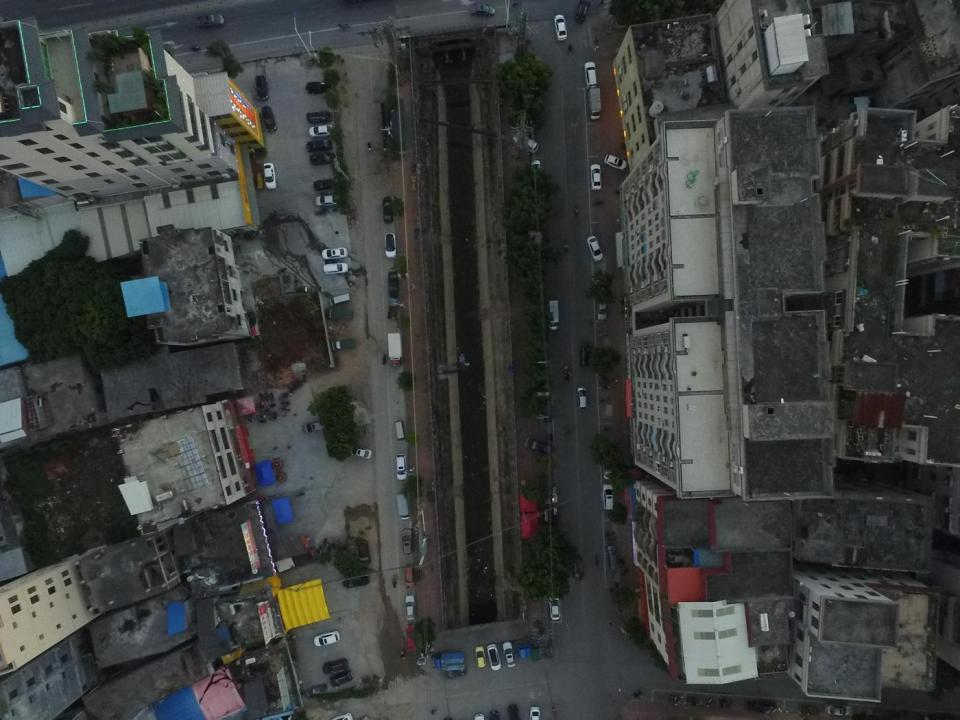car: (524, 437, 554, 456), (744, 699, 778, 714), (586, 234, 604, 262), (313, 630, 340, 647), (342, 573, 370, 589), (322, 658, 348, 675), (329, 670, 353, 688), (196, 14, 224, 29), (261, 106, 277, 132), (604, 154, 628, 171), (309, 152, 336, 167), (486, 643, 501, 670), (553, 14, 568, 41), (263, 162, 277, 190), (502, 640, 516, 668), (571, 555, 585, 583), (589, 163, 603, 191), (583, 61, 597, 89), (825, 704, 855, 717), (404, 623, 417, 652), (601, 482, 614, 511), (348, 444, 373, 459), (574, 0, 590, 23), (305, 81, 331, 95), (306, 110, 332, 124), (305, 139, 333, 152), (301, 420, 327, 434), (321, 247, 348, 260), (387, 272, 400, 299), (357, 542, 372, 565), (322, 262, 348, 275), (605, 544, 618, 570), (395, 453, 407, 481), (312, 178, 337, 191), (470, 3, 495, 16), (384, 232, 396, 259), (549, 593, 561, 620), (383, 196, 394, 224), (328, 293, 350, 307), (474, 645, 487, 668), (401, 529, 412, 555), (596, 298, 608, 321), (308, 125, 333, 136), (579, 342, 590, 367), (576, 387, 588, 409), (315, 195, 337, 206), (405, 594, 414, 620), (530, 160, 541, 181), (448, 668, 468, 679), (405, 564, 414, 588), (507, 704, 520, 720), (528, 705, 539, 720)
truck: (517, 643, 555, 661), (433, 651, 466, 671), (387, 333, 403, 366), (586, 86, 601, 121), (395, 490, 412, 520), (325, 307, 353, 320), (330, 338, 356, 350), (386, 297, 399, 320)
van: (512, 132, 539, 154), (254, 74, 270, 101), (548, 300, 560, 330), (394, 419, 406, 442)
